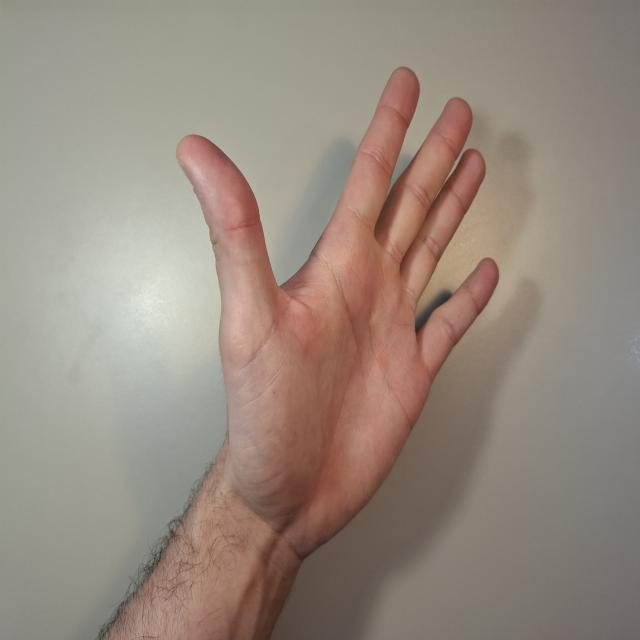glove_off: (174, 63, 502, 572)
